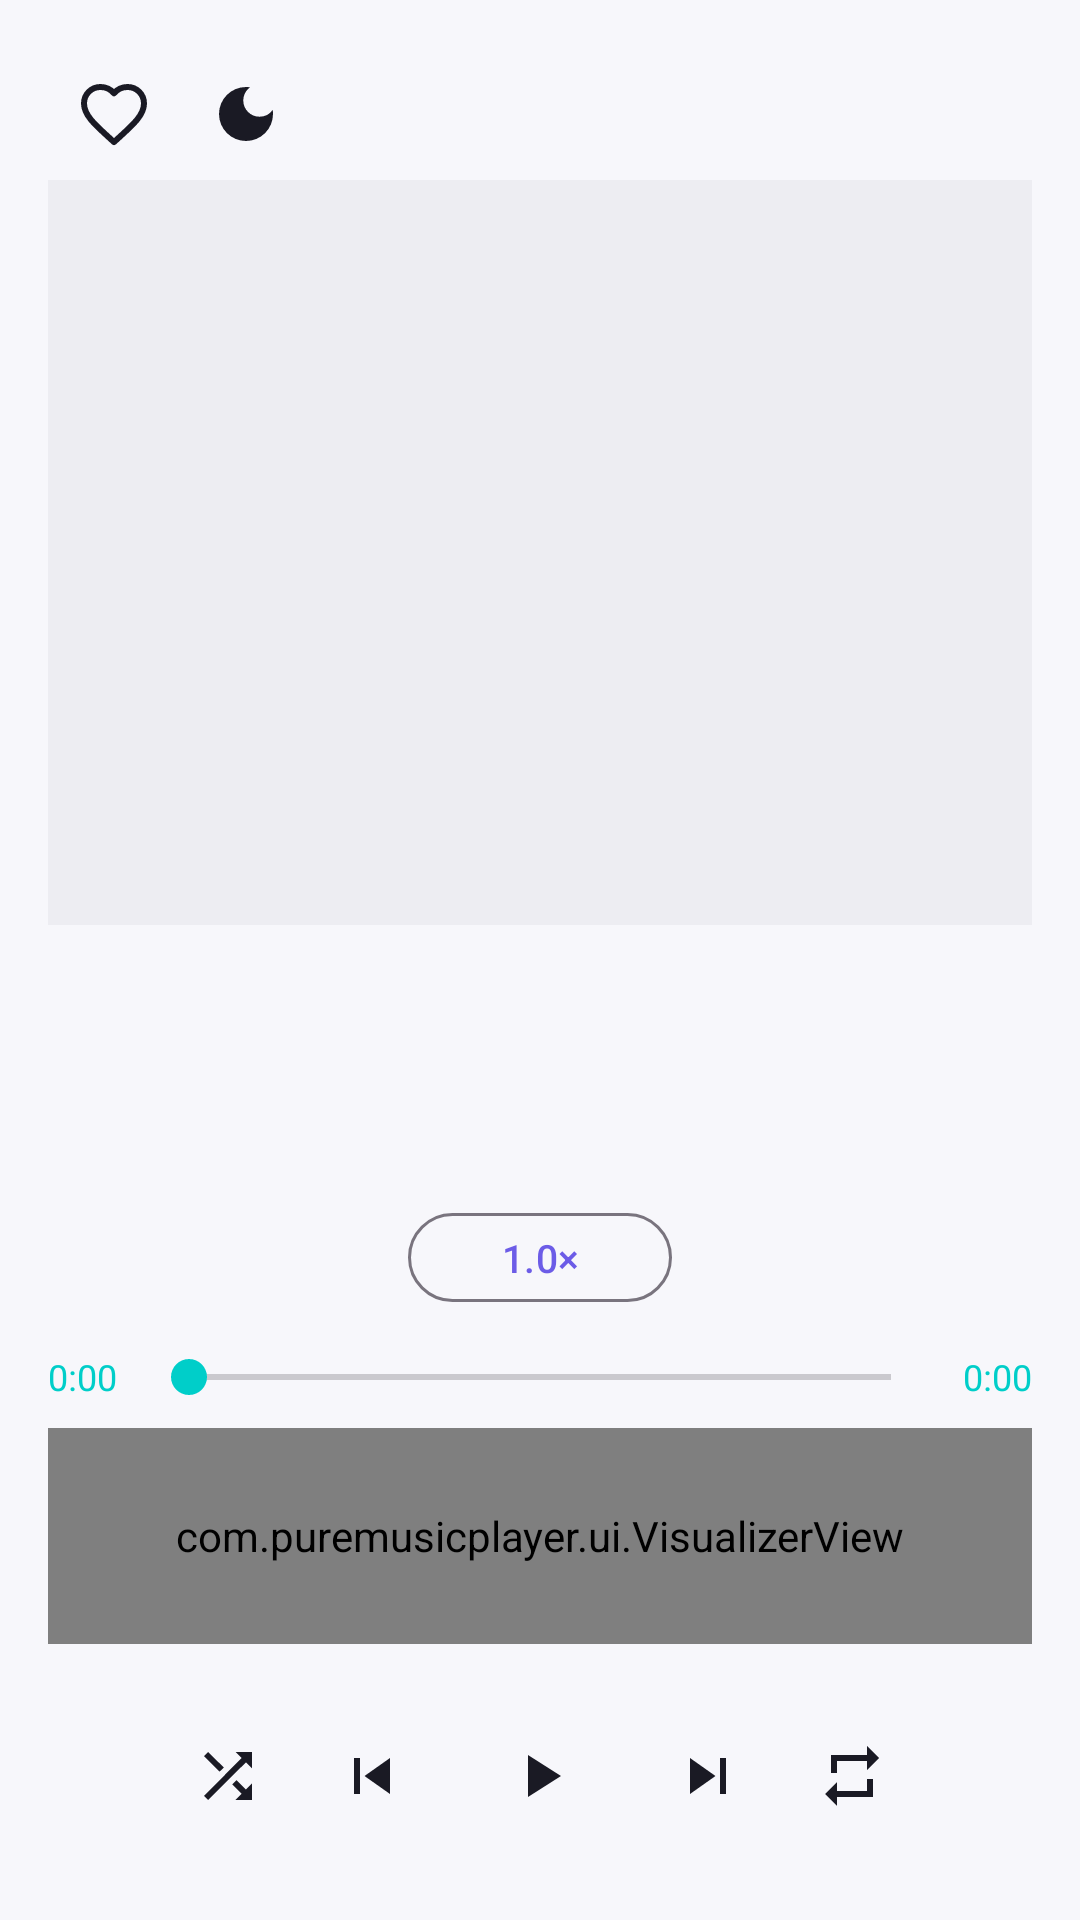

Where icons sit on this 1080px x 1920px app screen, as (x1, y1, x2, y2):
next: (690, 1758, 726, 1794)
previous: (354, 1758, 390, 1794)
repeat: (825, 1746, 879, 1806)
shuffle: (204, 1752, 252, 1800)
收藏: (81, 84, 147, 145)
睡眠定时器: (219, 87, 273, 141)
